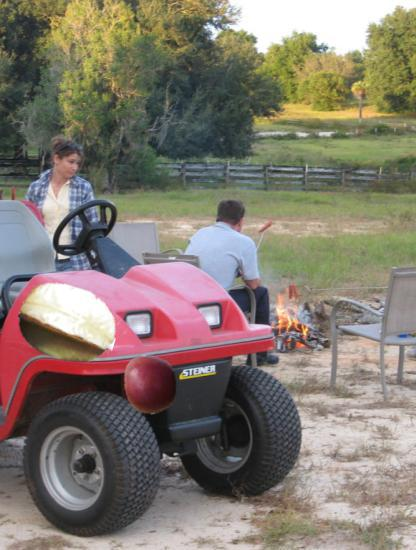Apple: (120, 354, 181, 415)
Carambula: (18, 273, 119, 374)
